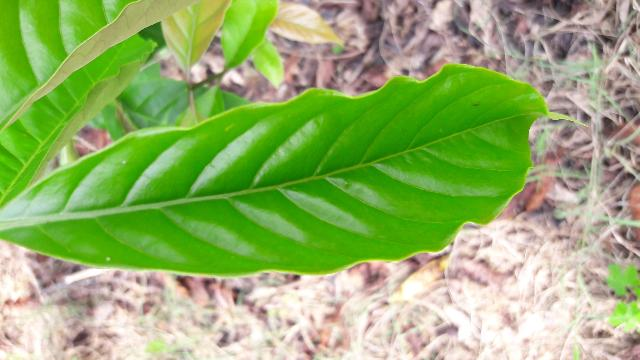healthy: (4, 70, 550, 278)
